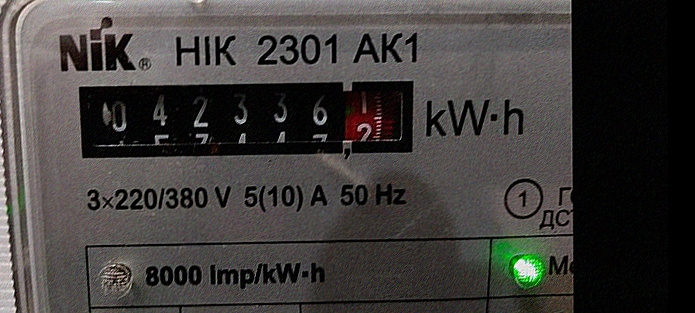0: (108, 97, 128, 132)
1: (356, 86, 369, 115)
2: (189, 92, 209, 128), (353, 120, 373, 141)
3: (230, 88, 249, 126), (268, 88, 288, 124)
4: (149, 90, 168, 127)
6: (307, 91, 329, 126)
screen: (70, 70, 423, 165)
